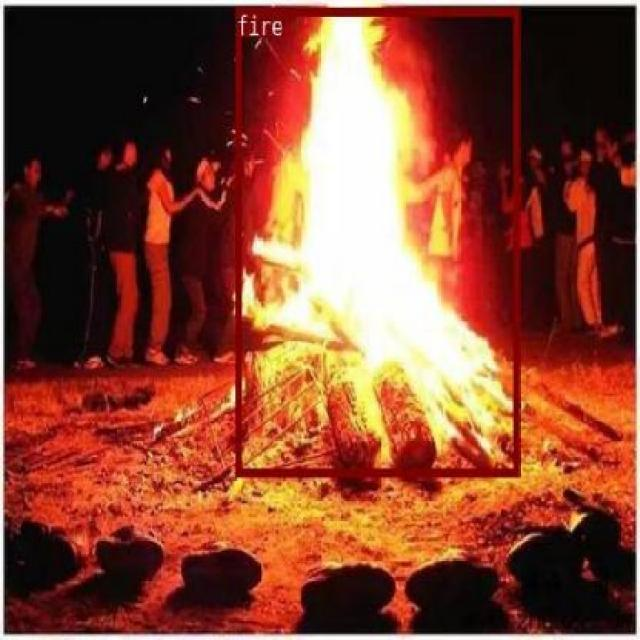Fire: (235, 7, 518, 476)
